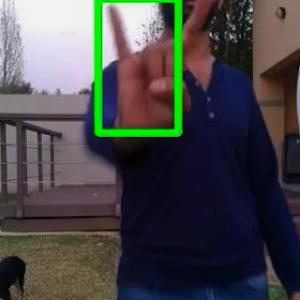takeoff-hand: (98, 0, 206, 142)
